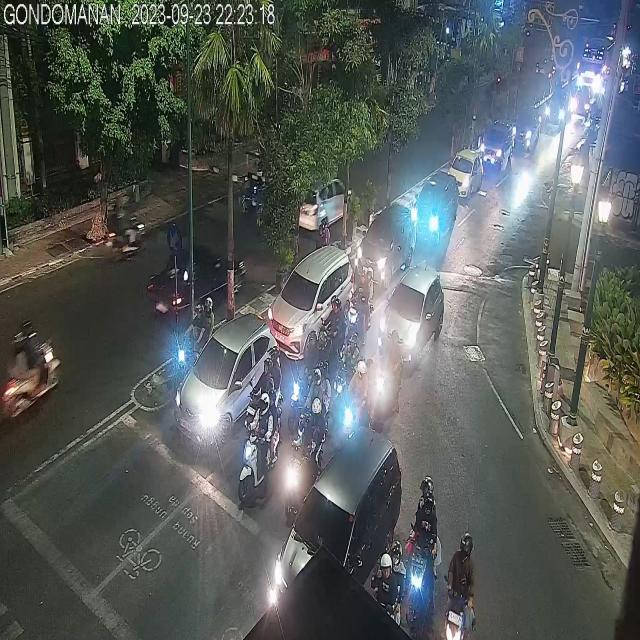car: (273, 424, 401, 596), (175, 315, 279, 445), (268, 248, 357, 356), (146, 251, 245, 319), (380, 266, 444, 370), (356, 205, 416, 284), (293, 177, 356, 235), (412, 172, 458, 243), (447, 148, 482, 196), (481, 122, 513, 169), (512, 108, 540, 151)
motorcycle: (1, 317, 60, 423), (408, 483, 440, 616), (287, 404, 323, 506), (174, 295, 213, 388), (442, 533, 475, 640), (239, 396, 269, 502), (245, 344, 281, 424), (298, 360, 330, 444), (106, 204, 146, 264), (376, 329, 402, 421), (371, 545, 401, 621), (342, 359, 372, 435), (333, 334, 360, 403), (347, 270, 372, 339)
